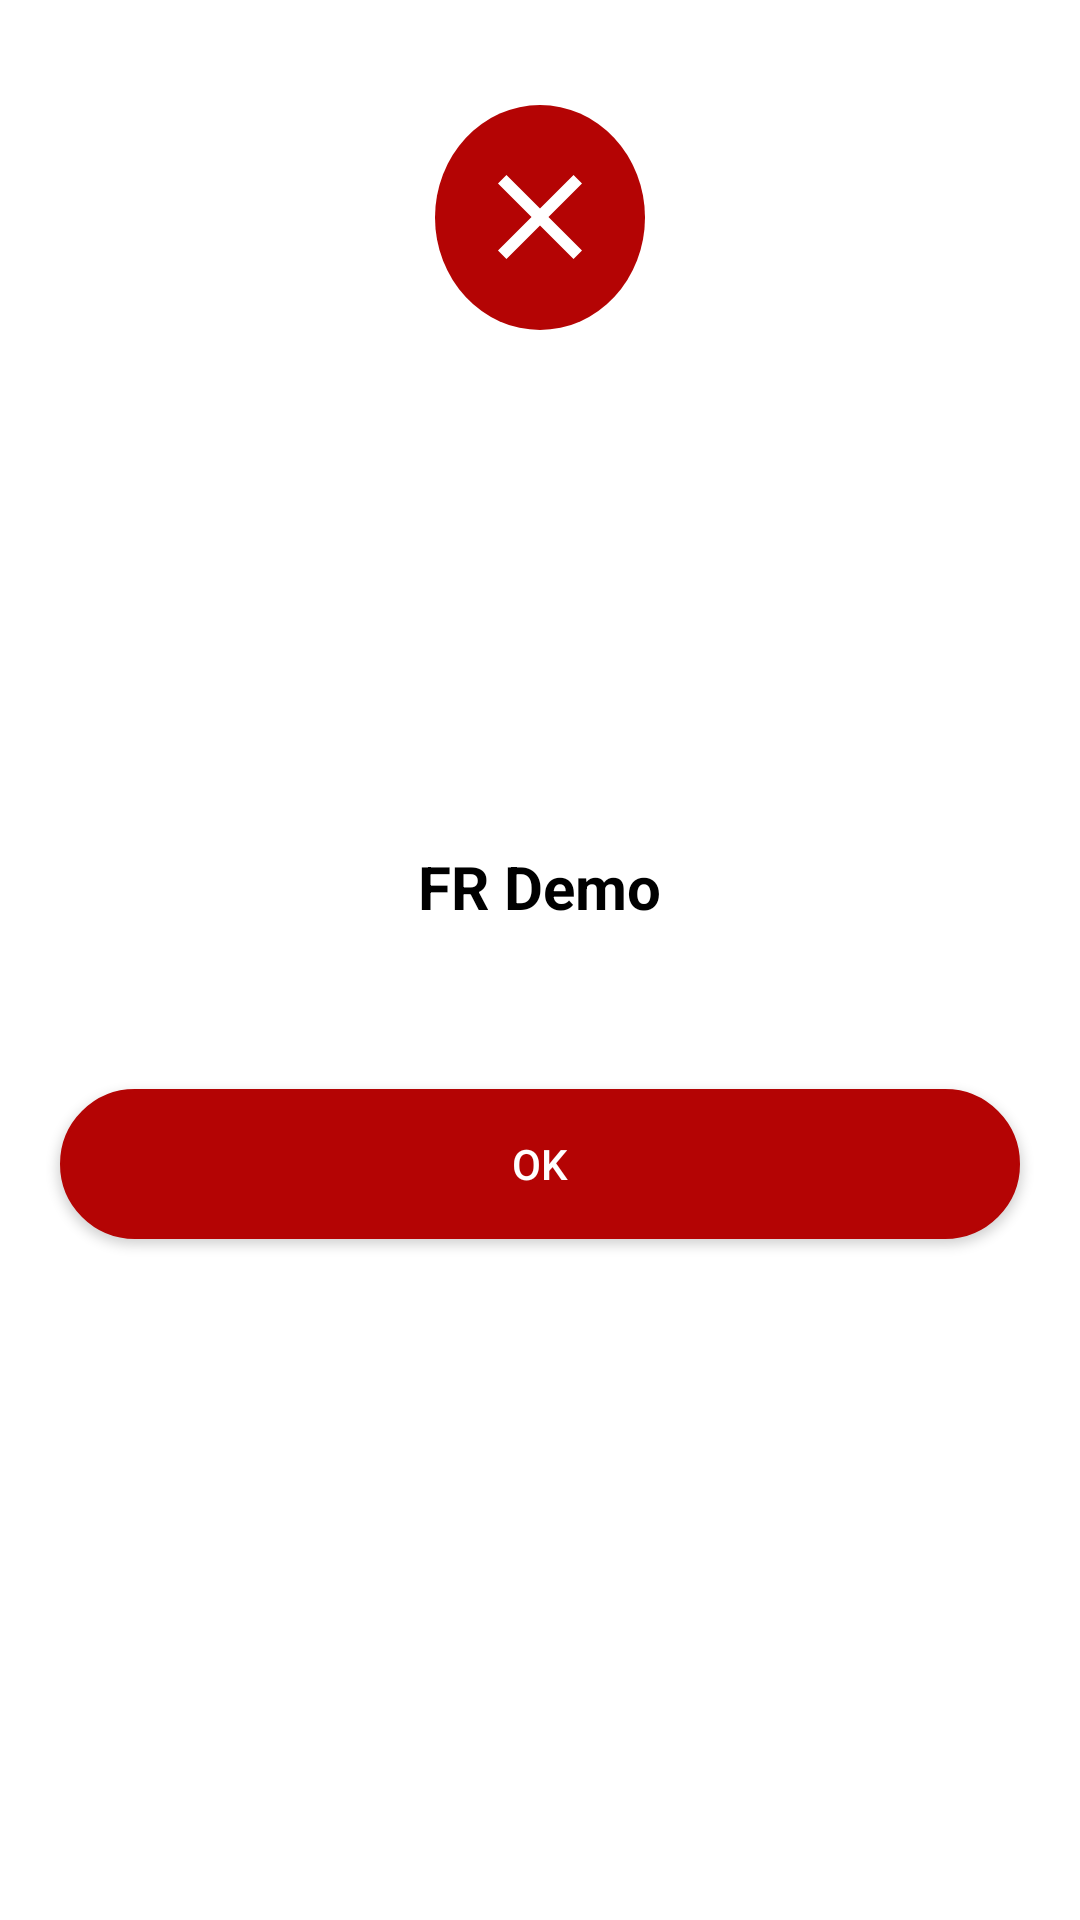

Locate icon controls on the screen. Image size 1080*1920, boxes as (x1, y1, x2, y2).
close: (498, 175, 582, 259)
